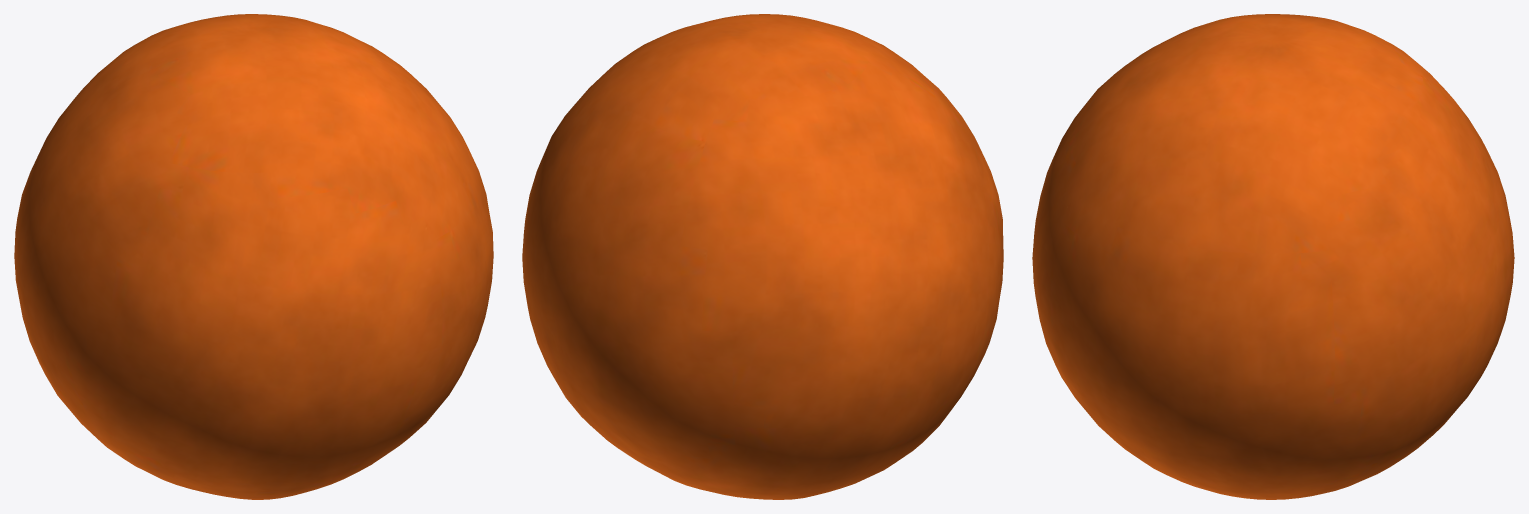
The model's file is candy_jaffa.glb.
The picture shows the model from 3 angles, left to right: view 1: azimuth 30°, elevation 25°; view 2: azimuth 150°, elevation 25°; view 3: azimuth 270°, elevation 25°; orthographic projection.
Visible parts, largest first — view 1: candy_jaffa; view 2: candy_jaffa; view 3: candy_jaffa.
Part boxes in pixels (bbox=[...]): candy_jaffa: bbox=[14, 14, 493, 499]; candy_jaffa: bbox=[522, 14, 1003, 499]; candy_jaffa: bbox=[1032, 14, 1514, 499].
Size of the model in its own units: 0.6478 by 0.6545 by 0.647.
1 material, 1 textured.
